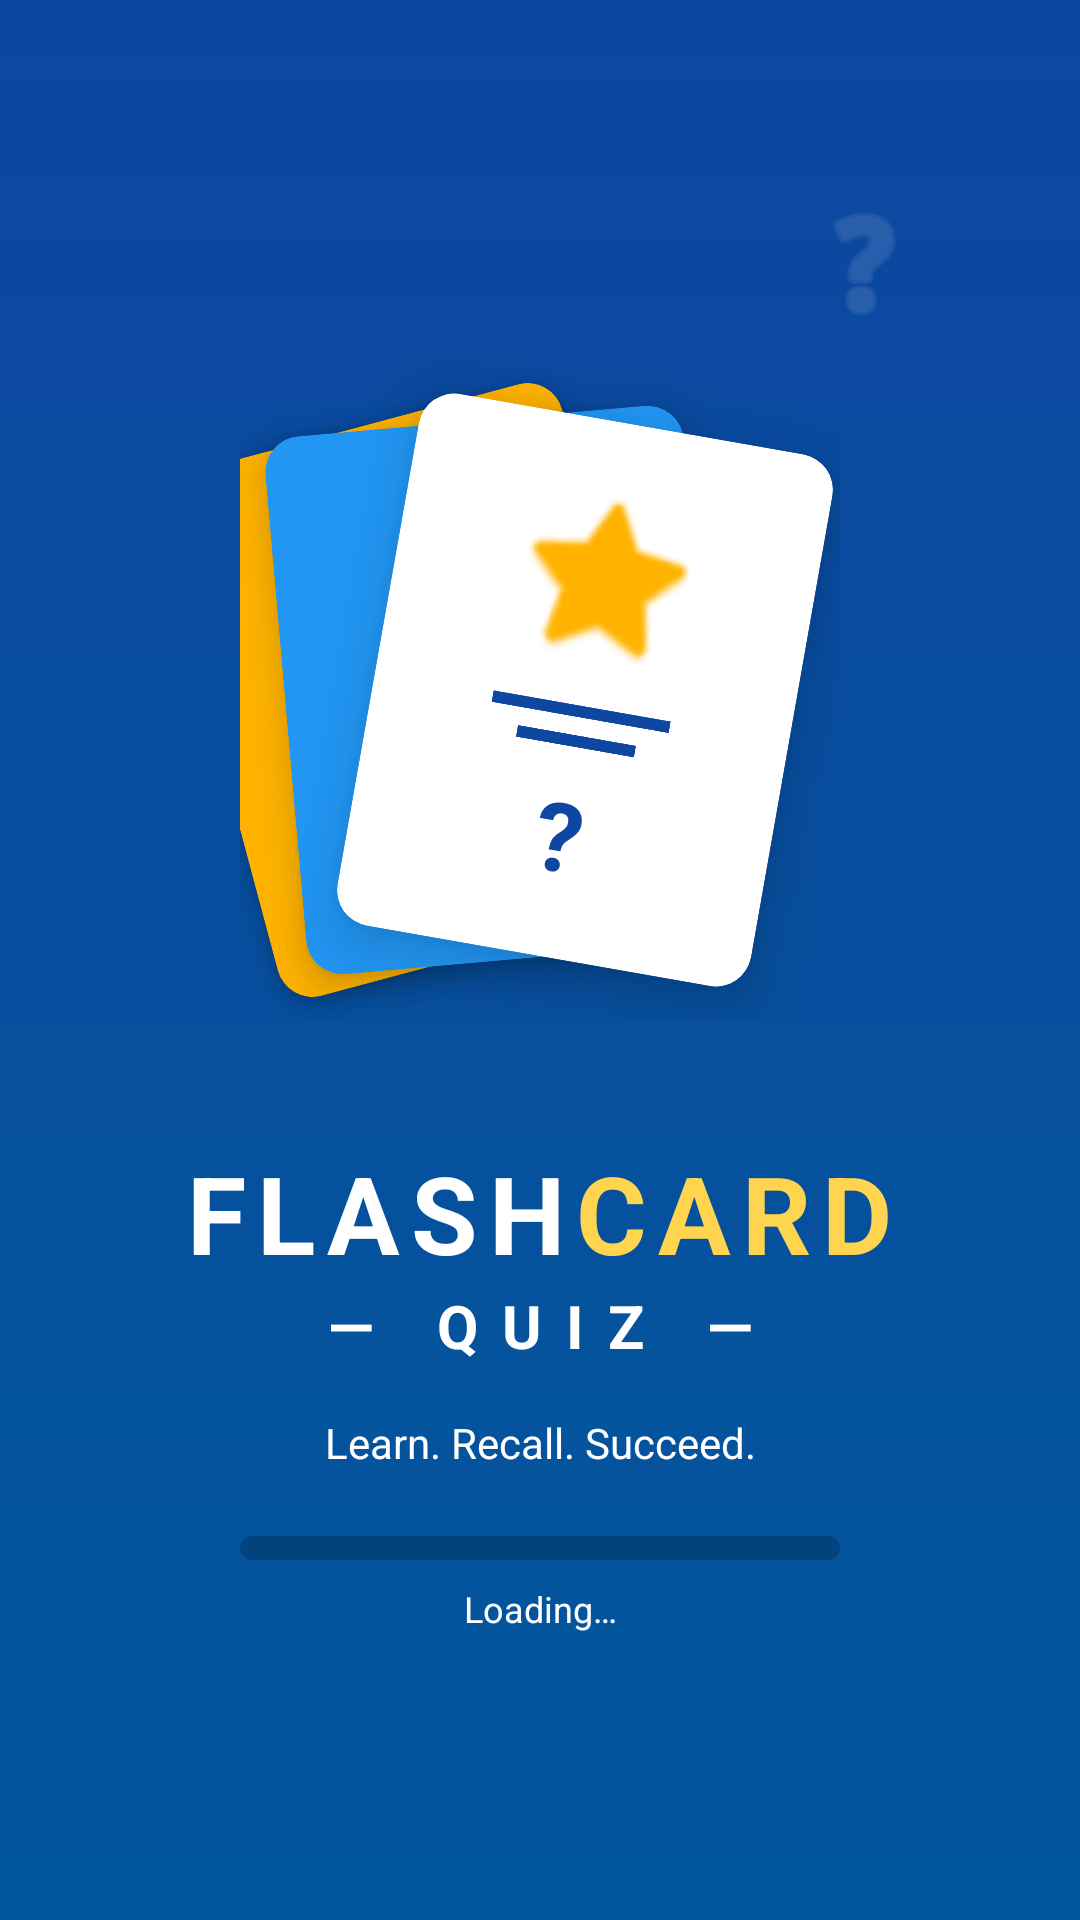

Where to tap for icons on this 1080*1920 app screen, as (x,y):
help: (864,264)
